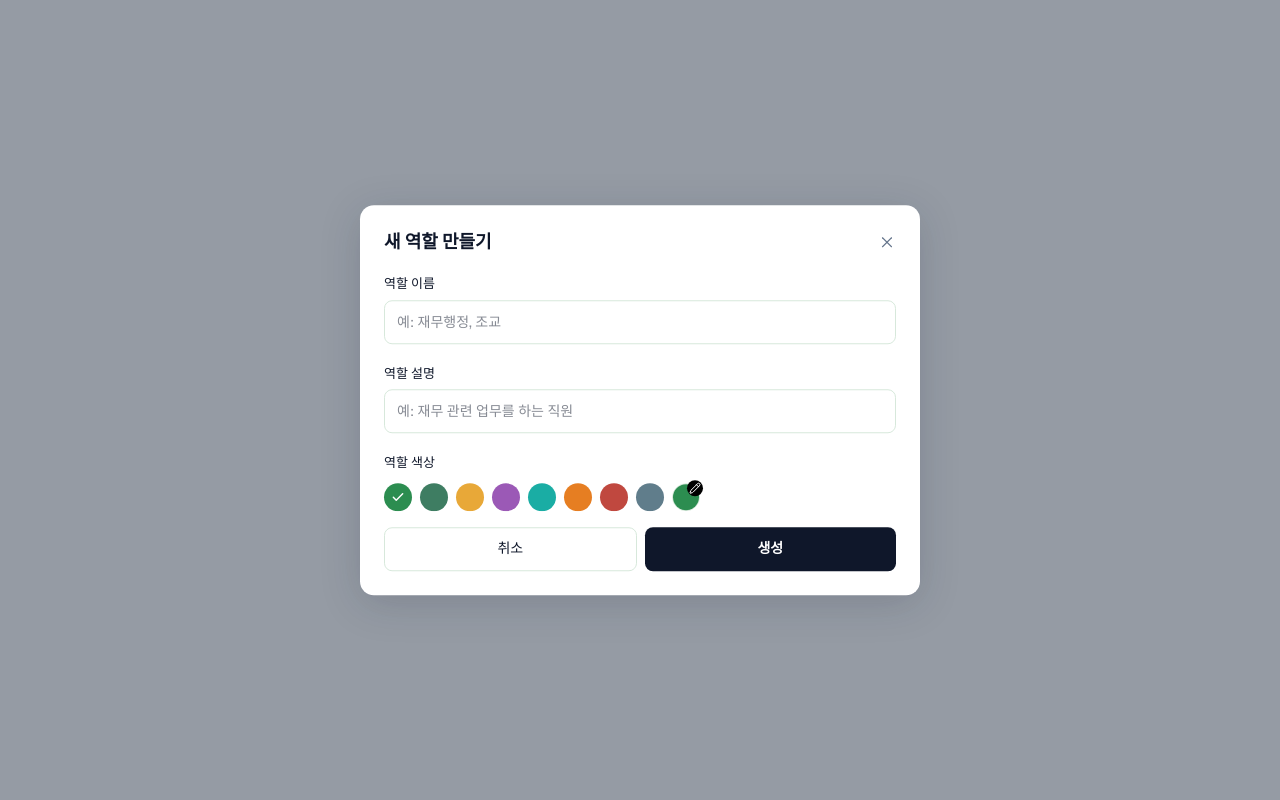
Test: CreateRoleModal › 색상 스와치를 선택하면 선택 상태가 변경된다
Click the radio button with id "role-color-1" at coordinates (434, 497), box [420,483,448,511]
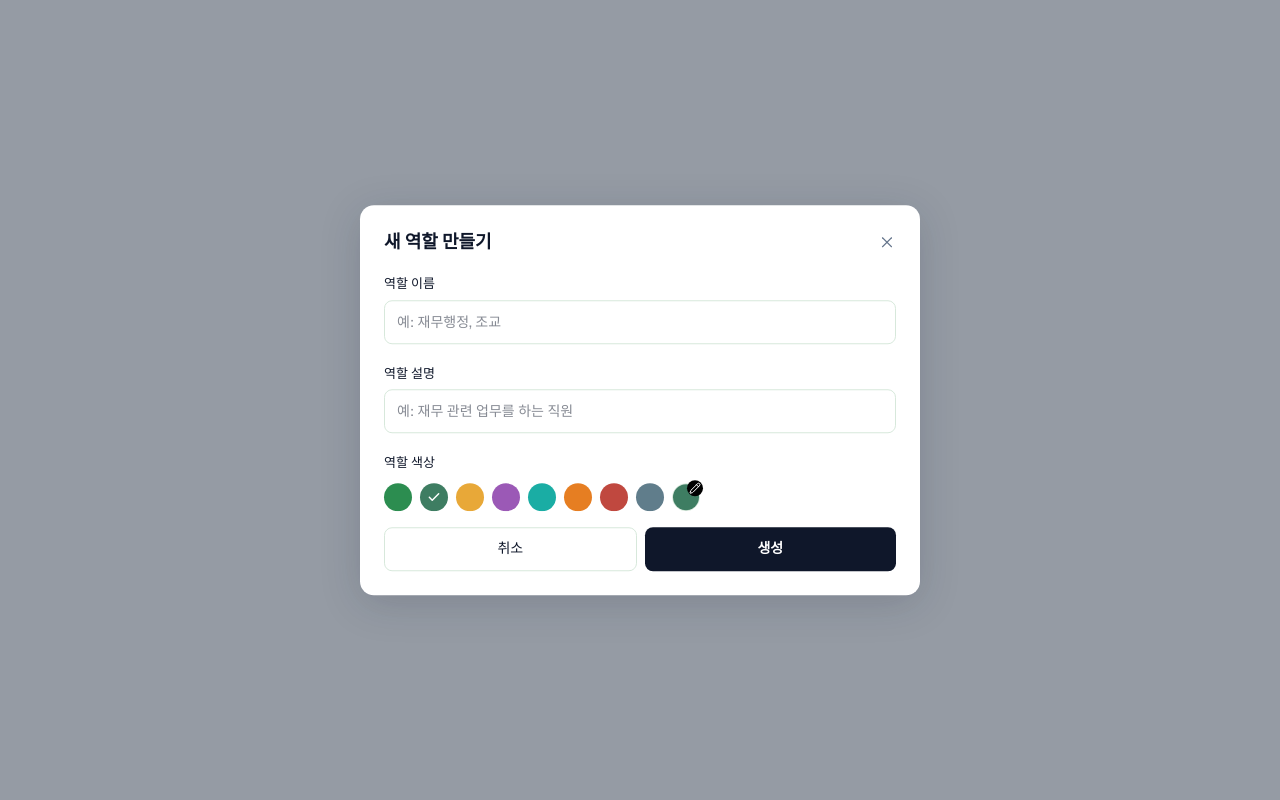
Result: the radio button with id "role-color-1" is checked at [420,483,448,511]
Result: the radio button with id "role-color-0" is not checked at [384,483,412,511]
